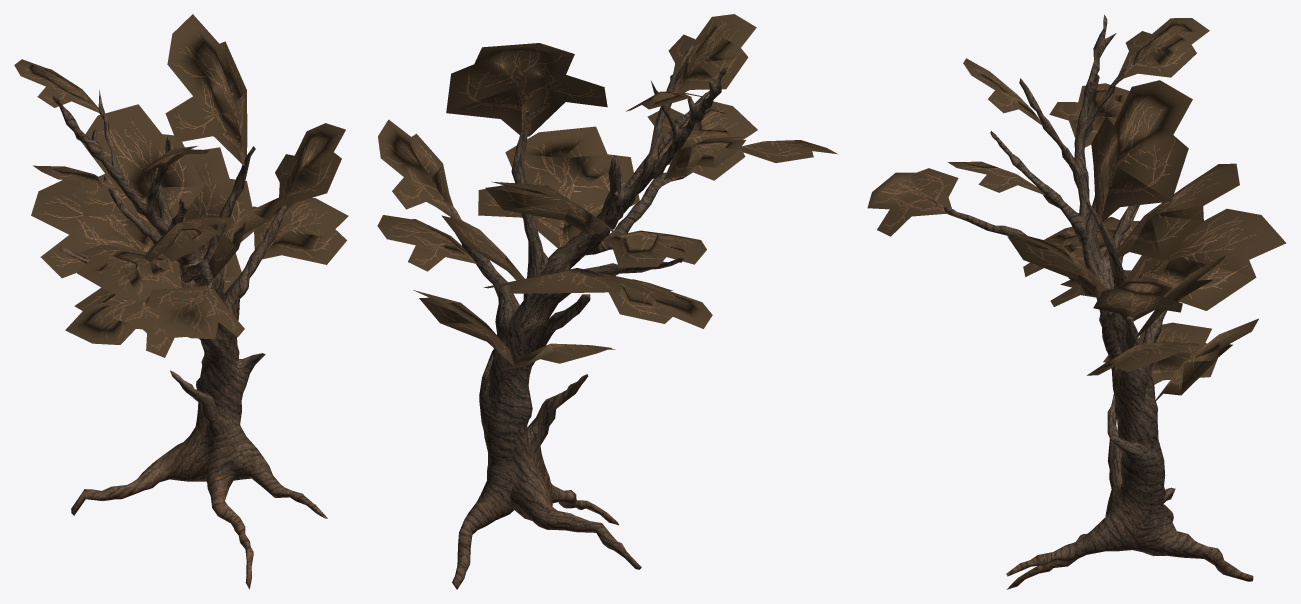
File: static.glb
3 renders of one model, left to right at view 1: azimuth 30°, elevation 25°; view 2: azimuth 150°, elevation 25°; view 3: azimuth 270°, elevation 25°, orthographic. The views are drawn at different scales.
Visible parts, largest first — view 1: branches_3, tree3; view 2: branches_3, tree3; view 3: branches_3, tree3.
Boxes of the visible parts, x1,y1,x2,y2 form: branches_3: (14, 14, 348, 357); tree3: (52, 90, 327, 589); branches_3: (377, 14, 837, 370); tree3: (450, 44, 727, 589); branches_3: (867, 18, 1286, 402); tree3: (943, 14, 1253, 589).
Size of the model in its own units: 4.87 by 7.33 by 5.47.
2 materials, 2 textured.
